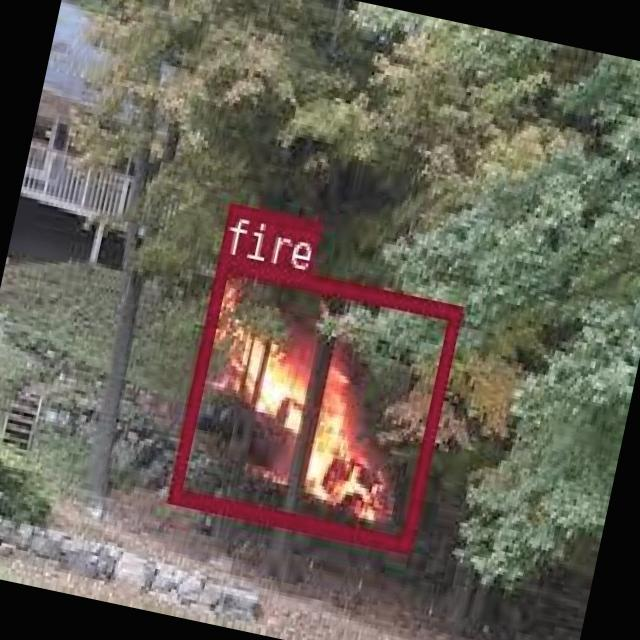fire: (167, 252, 460, 550)
